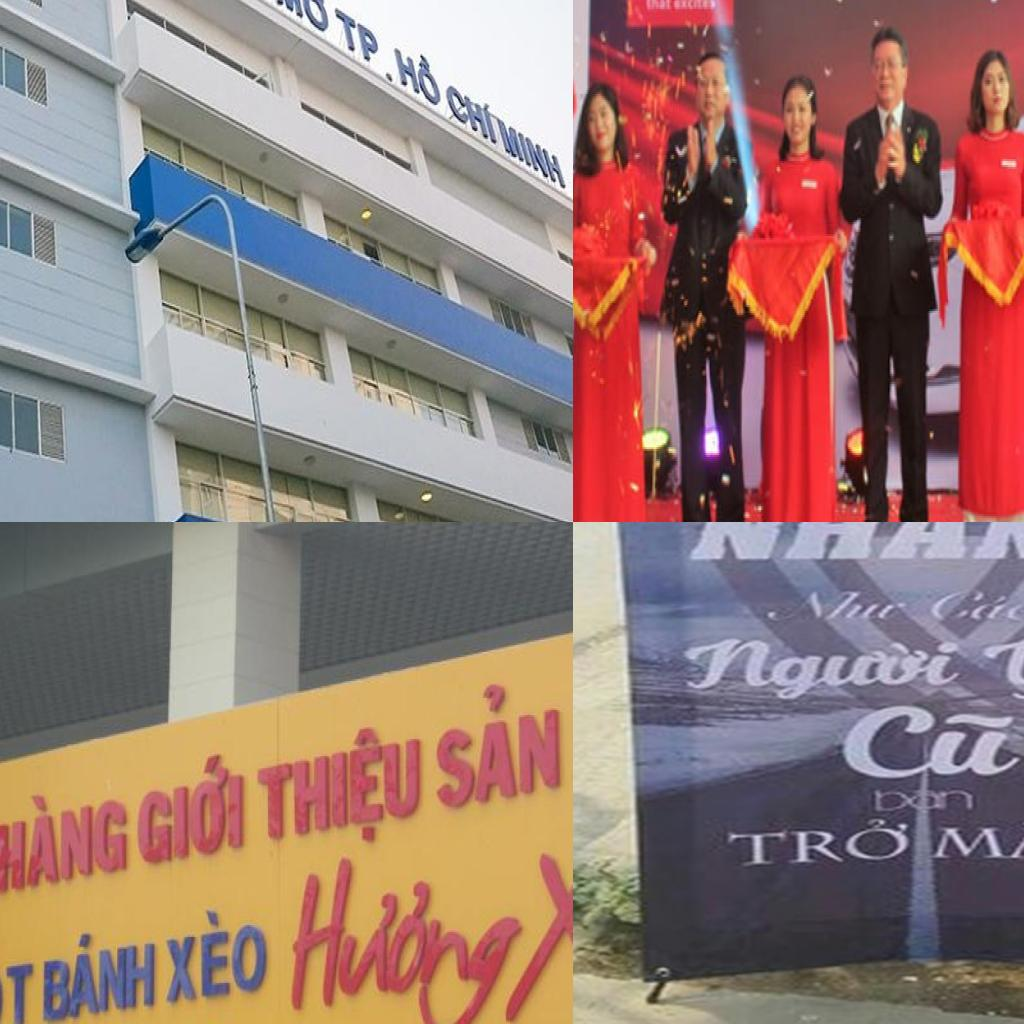text: (282, 822, 548, 1024), (255, 717, 422, 858), (671, 635, 970, 703), (435, 671, 561, 816), (828, 702, 1024, 782), (0, 776, 128, 897), (136, 744, 245, 872), (685, 522, 1024, 563), (41, 920, 158, 1024), (163, 901, 269, 1007), (721, 816, 914, 870), (756, 588, 916, 626), (387, 28, 448, 119), (441, 70, 504, 156), (924, 819, 1024, 872), (914, 587, 1024, 623), (970, 636, 1024, 703), (335, 4, 383, 72), (269, 0, 334, 49), (0, 940, 36, 1024), (870, 787, 980, 814)
